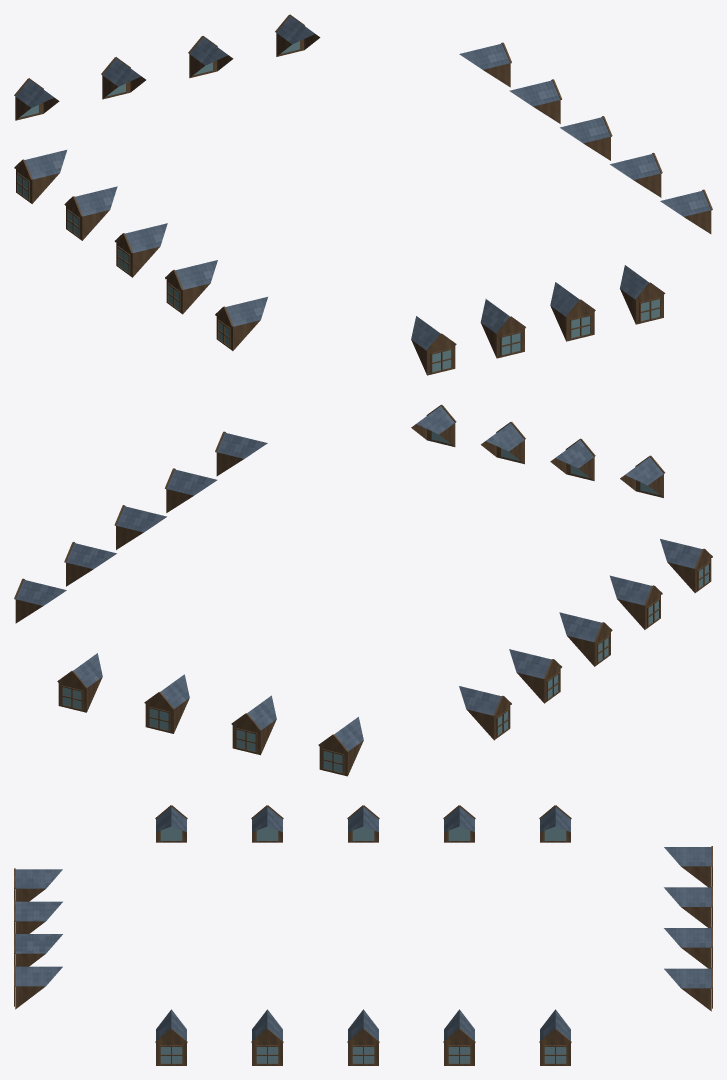
Rendered from Furn_DormRoof3_Dormers.fbx.
3 views of the same model, one above another, from view 1: azimuth 30°, elevation 25°; view 2: azimuth 150°, elevation 25°; view 3: azimuth 270°, elevation 25° (orthographic). The views are drawn at different scales.
Parts seen in each view (by area): view 1: Furn_DormRoof3_Dormers; view 2: Furn_DormRoof3_Dormers; view 3: Furn_DormRoof3_Dormers.
Part boxes in pixels (x1=…): Furn_DormRoof3_Dormers: x1=14, y1=14, x2=712, y2=375; Furn_DormRoof3_Dormers: x1=14, y1=404, x2=712, y2=776; Furn_DormRoof3_Dormers: x1=14, y1=805, x2=712, y2=1065.
Bounding box in the file's own units: 22.12 × 1.7 × 29.12.
